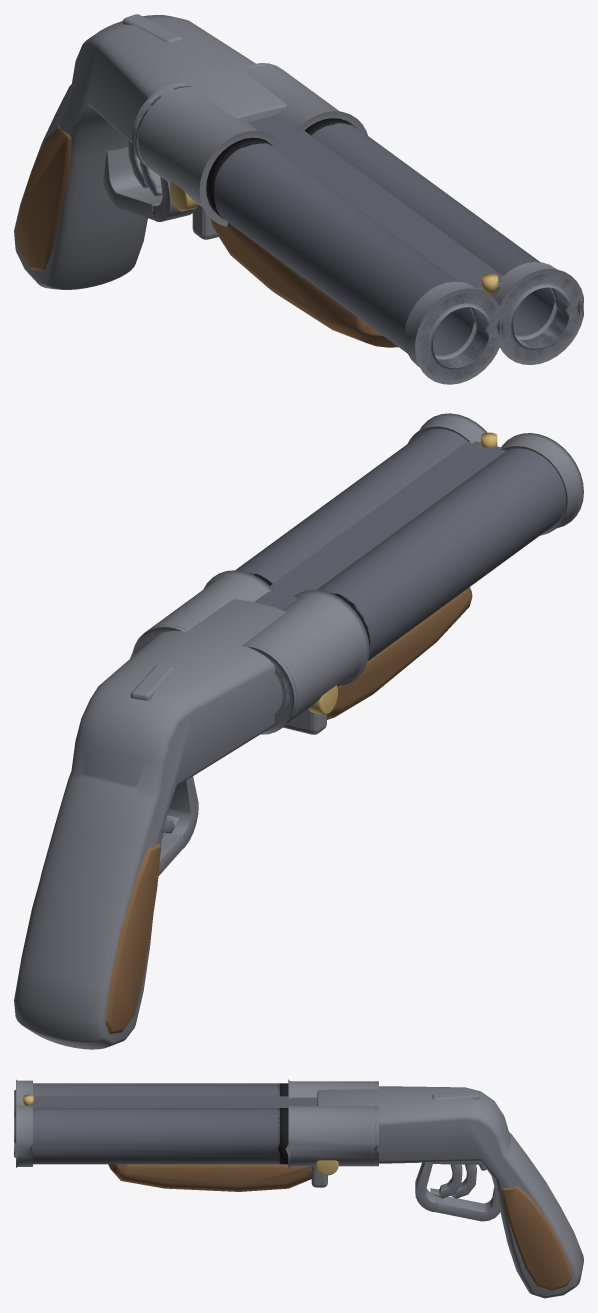
Rendered from shorty-double.glb.
3 renders of one model, top to bottom at view 1: azimuth 30°, elevation 25°; view 2: azimuth 150°, elevation 25°; view 3: azimuth 270°, elevation 25°, orthographic. The views are drawn at different scales.
Visible parts, largest first — view 1: body, barrel0, barrel1, chamber0, rib_top, crown0, crown1, foreend, grip_panel-1, chamber1, guard, cone0 (+3 smaller); view 2: body, barrel0, chamber0, rib_top, barrel1, grip_panel-1, foreend, chamber1, crown0, guard, crown1; view 3: body, barrel1, chamber1, foreend, grip_panel1, barrel0, rib_top, guard, crown1, chamber0, cone1, trig0 (+4 smaller).
Part boxes in pixels (x1,y1,x2,y2): body: [14, 15, 286, 289]; barrel0: [213, 143, 499, 379]; barrel1: [311, 123, 579, 360]; chamber0: [132, 82, 275, 226]; rib_top: [247, 115, 503, 312]; crown0: [404, 281, 503, 384]; crown1: [495, 262, 583, 364]; foreend: [210, 218, 398, 347]; grip_panel-1: [15, 124, 71, 270]; chamber1: [242, 63, 367, 135]; guard: [103, 147, 192, 221]; cone0: [206, 137, 272, 218]; body: [14, 599, 286, 1049]; barrel0: [317, 448, 565, 661]; chamber0: [241, 590, 369, 734]; rib_top: [254, 441, 506, 610]; barrel1: [235, 428, 467, 583]; grip_panel-1: [105, 843, 160, 1033]; foreend: [327, 587, 472, 719]; chamber1: [130, 570, 274, 658]; crown0: [500, 433, 583, 535]; guard: [158, 776, 198, 876]; crown1: [407, 413, 486, 443]; body: [317, 1086, 583, 1298]; barrel1: [14, 1108, 279, 1164]; chamber1: [285, 1104, 378, 1168]; foreend: [108, 1164, 311, 1191]; grip_panel1: [502, 1186, 572, 1290]; barrel0: [33, 1083, 279, 1096]; rib_top: [27, 1096, 317, 1107]; guard: [415, 1161, 500, 1221]; crown1: [14, 1104, 32, 1167]; chamber0: [288, 1079, 378, 1098]; cone1: [278, 1108, 288, 1164]; trig0: [430, 1164, 462, 1198].
Bounding box in the file's own units: 0.0994 × 0.1732 × 0.4541.
